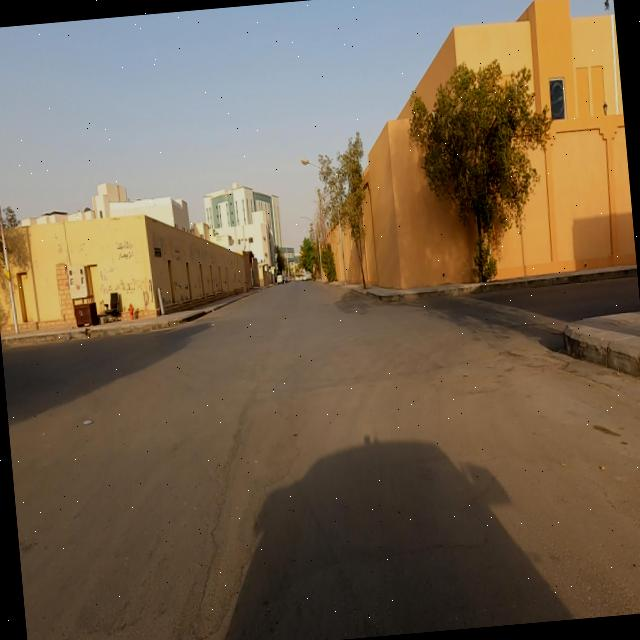Graffiti: (120, 278, 156, 307), (98, 269, 113, 294), (117, 240, 134, 261), (175, 282, 190, 295)
